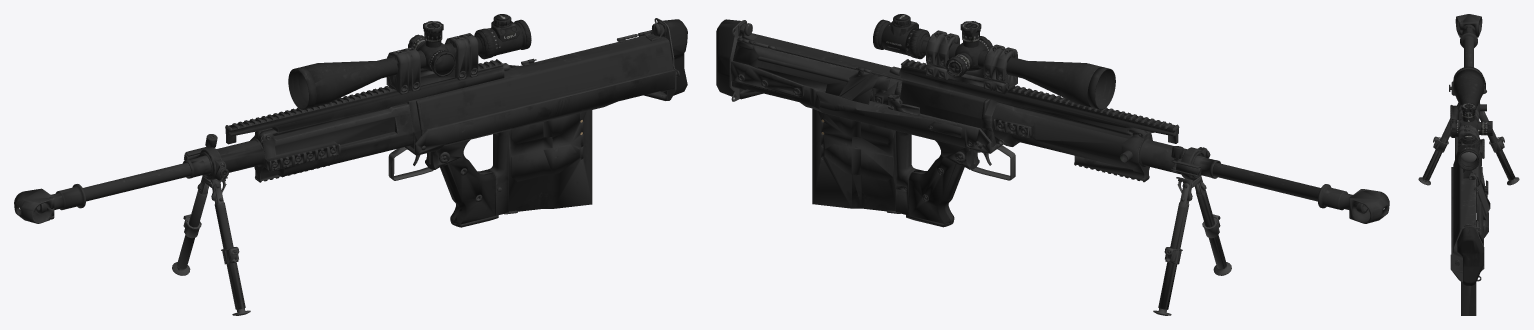
Rendered from sniper.glb.
3 renders of one model, left to right at view 1: azimuth 30°, elevation 25°; view 2: azimuth 150°, elevation 25°; view 3: azimuth 270°, elevation 25°, orthographic. The views are drawn at different scales.
Parts seen in each view (by area): view 1: Cylinder.006_GM6-Lynx_1_0, Cylinder.006_GM6-Lynx_2_0; view 2: Cylinder.006_GM6-Lynx_1_0, Cylinder.006_GM6-Lynx_2_0; view 3: Cylinder.006_GM6-Lynx_1_0, Cylinder.006_GM6-Lynx_2_0.
Boxes of the visible parts, left/top/right/bottom form: Cylinder.006_GM6-Lynx_1_0: left=14, top=18, right=687, bottom=315; Cylinder.006_GM6-Lynx_2_0: left=288, top=14, right=531, bottom=109; Cylinder.006_GM6-Lynx_1_0: left=716, top=19, right=1389, bottom=315; Cylinder.006_GM6-Lynx_2_0: left=873, top=14, right=1115, bottom=109; Cylinder.006_GM6-Lynx_1_0: left=1418, top=14, right=1519, bottom=315; Cylinder.006_GM6-Lynx_2_0: left=1452, top=66, right=1492, bottom=170.
Size of the model in its own units: 5.6 by 1.73 by 1.01.
2 materials, 2 textured.
